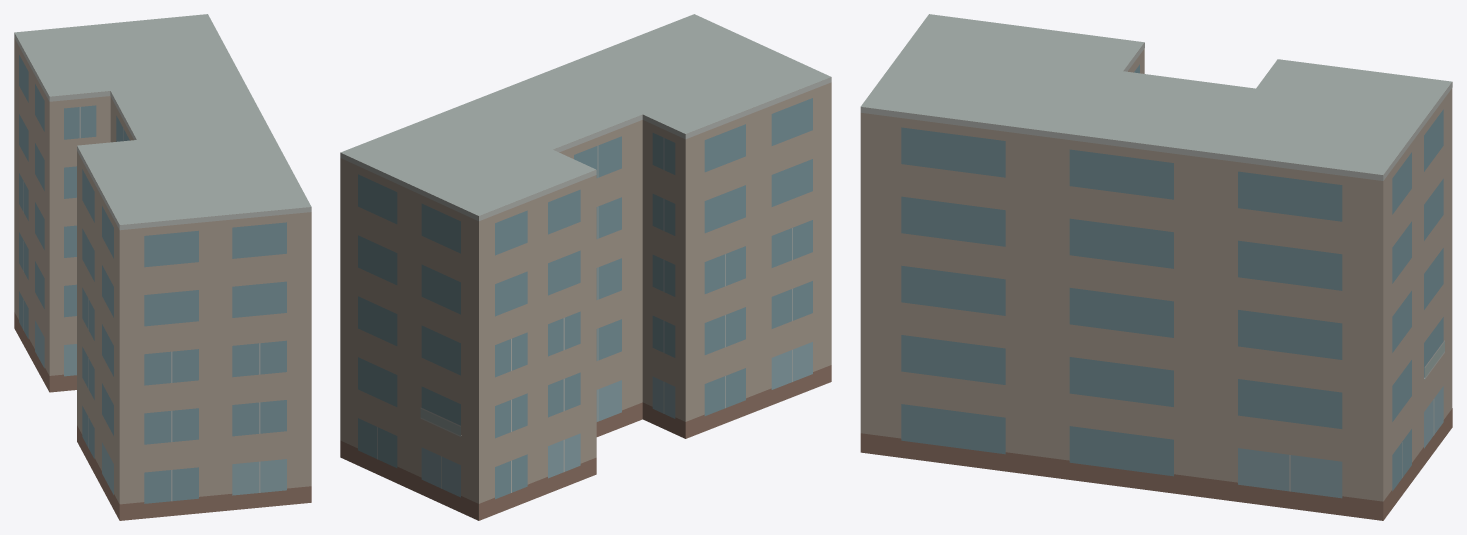
Rendered from survey-upis-32539728.glb.
3 views of the same model, side by side, from view 1: azimuth 30°, elevation 25°; view 2: azimuth 150°, elevation 25°; view 3: azimuth 270°, elevation 25° (orthographic). The views are drawn at different scales.
Visible parts, largest first — view 1: survey-upis-32539728.tmp; view 2: survey-upis-32539728.tmp; view 3: survey-upis-32539728.tmp.
Boxes of the visible parts, x1,y1,x2,y2 form: survey-upis-32539728.tmp: (14, 14, 311, 520); survey-upis-32539728.tmp: (340, 14, 831, 520); survey-upis-32539728.tmp: (860, 14, 1452, 520).
Bounding box in the file's own units: 14.15 × 14.15 × 21.97.
